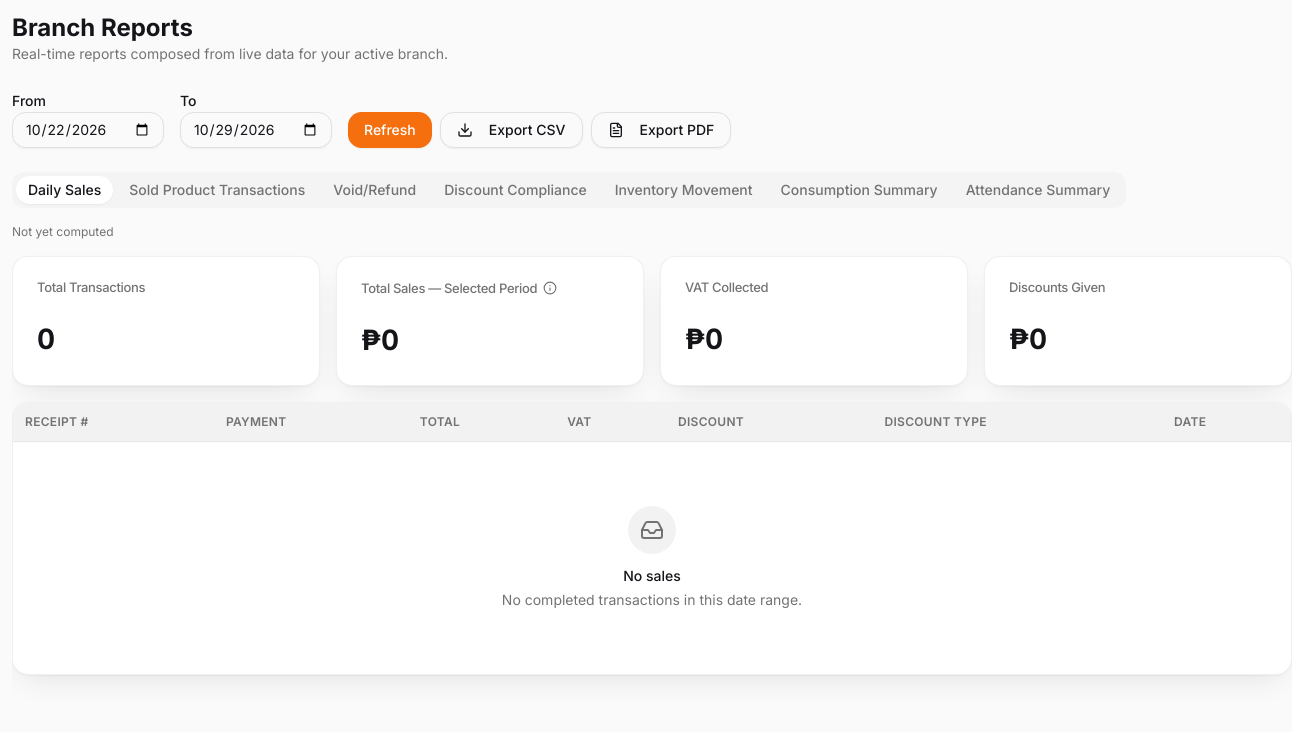
ReportsView — Inventory Movement tab (aligned InventoryStockMovement source) › TEST D — shows a clear empty-history message when no movements are returned
Press the mouse on the tab "Inventory Movement" at (684, 190), box left=603, top=176, right=765, bottom=204
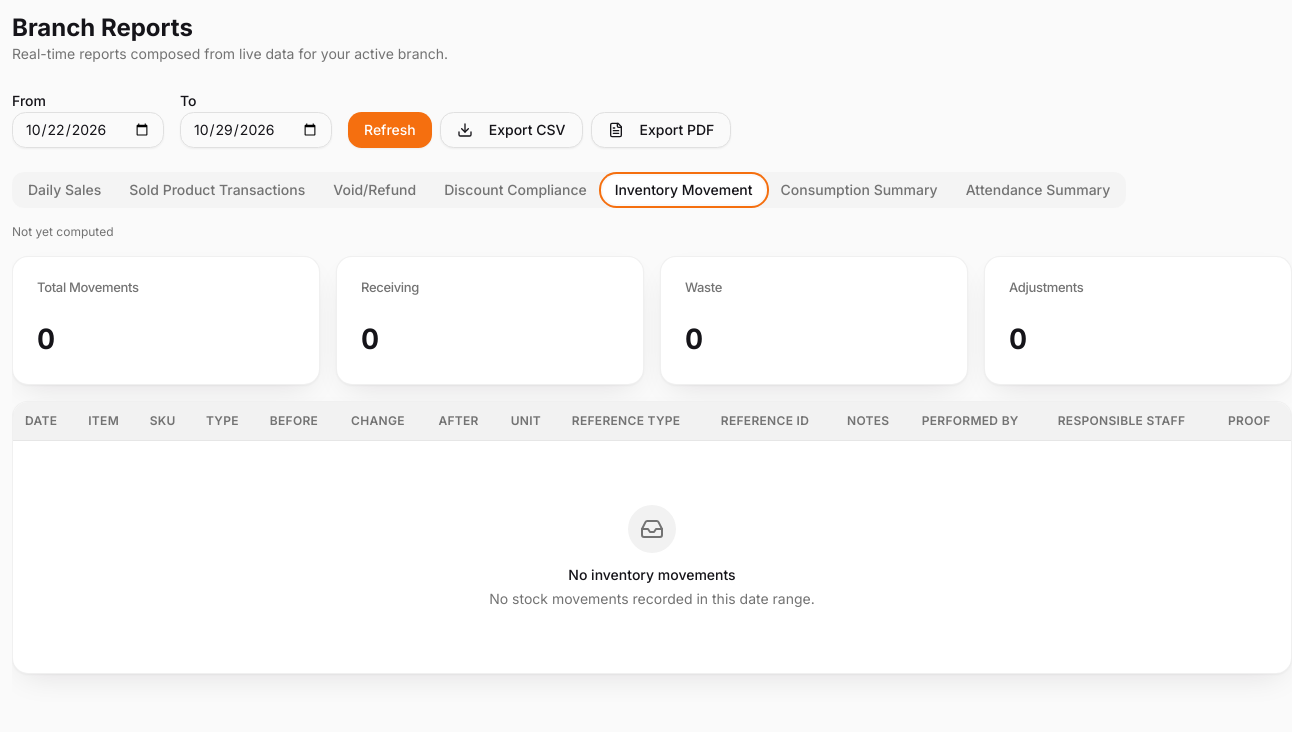
Result: the text "No inventory movements" is shown at left=568, top=566, right=736, bottom=582
